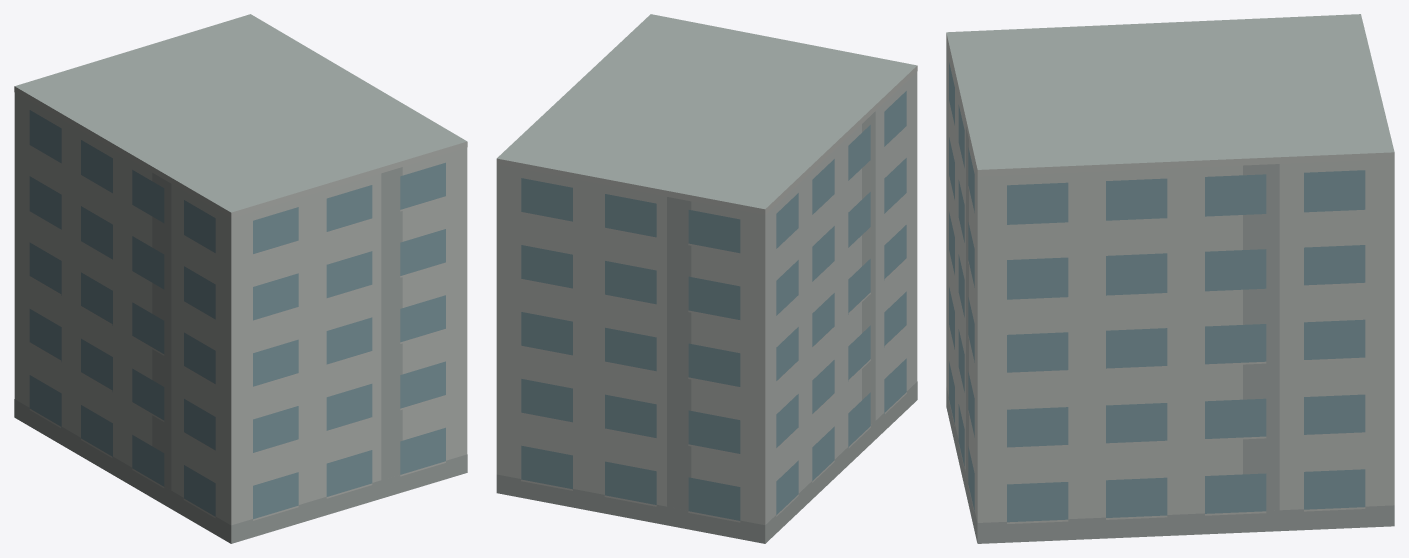
File: survey-upis-33035258.glb
3 views of the same model, side by side, from view 1: azimuth 30°, elevation 25°; view 2: azimuth 150°, elevation 25°; view 3: azimuth 270°, elevation 25° (orthographic). The views are drawn at different scales.
Parts seen in each view (by area): view 1: survey-upis-33035258.tmp; view 2: survey-upis-33035258.tmp; view 3: survey-upis-33035258.tmp.
Boxes of the visible parts, x1,y1,x2,y2 form: survey-upis-33035258.tmp: (14,14,467,543); survey-upis-33035258.tmp: (496,14,917,543); survey-upis-33035258.tmp: (946,14,1394,543).
Size of the model in its own units: 12.04 by 13.45 by 14.63.
